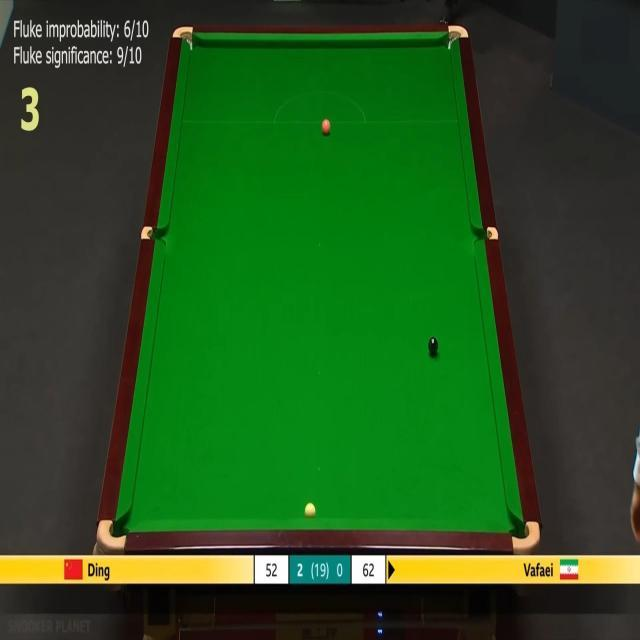Ball: (428, 336, 438, 354), (304, 502, 316, 516), (322, 118, 330, 134)
